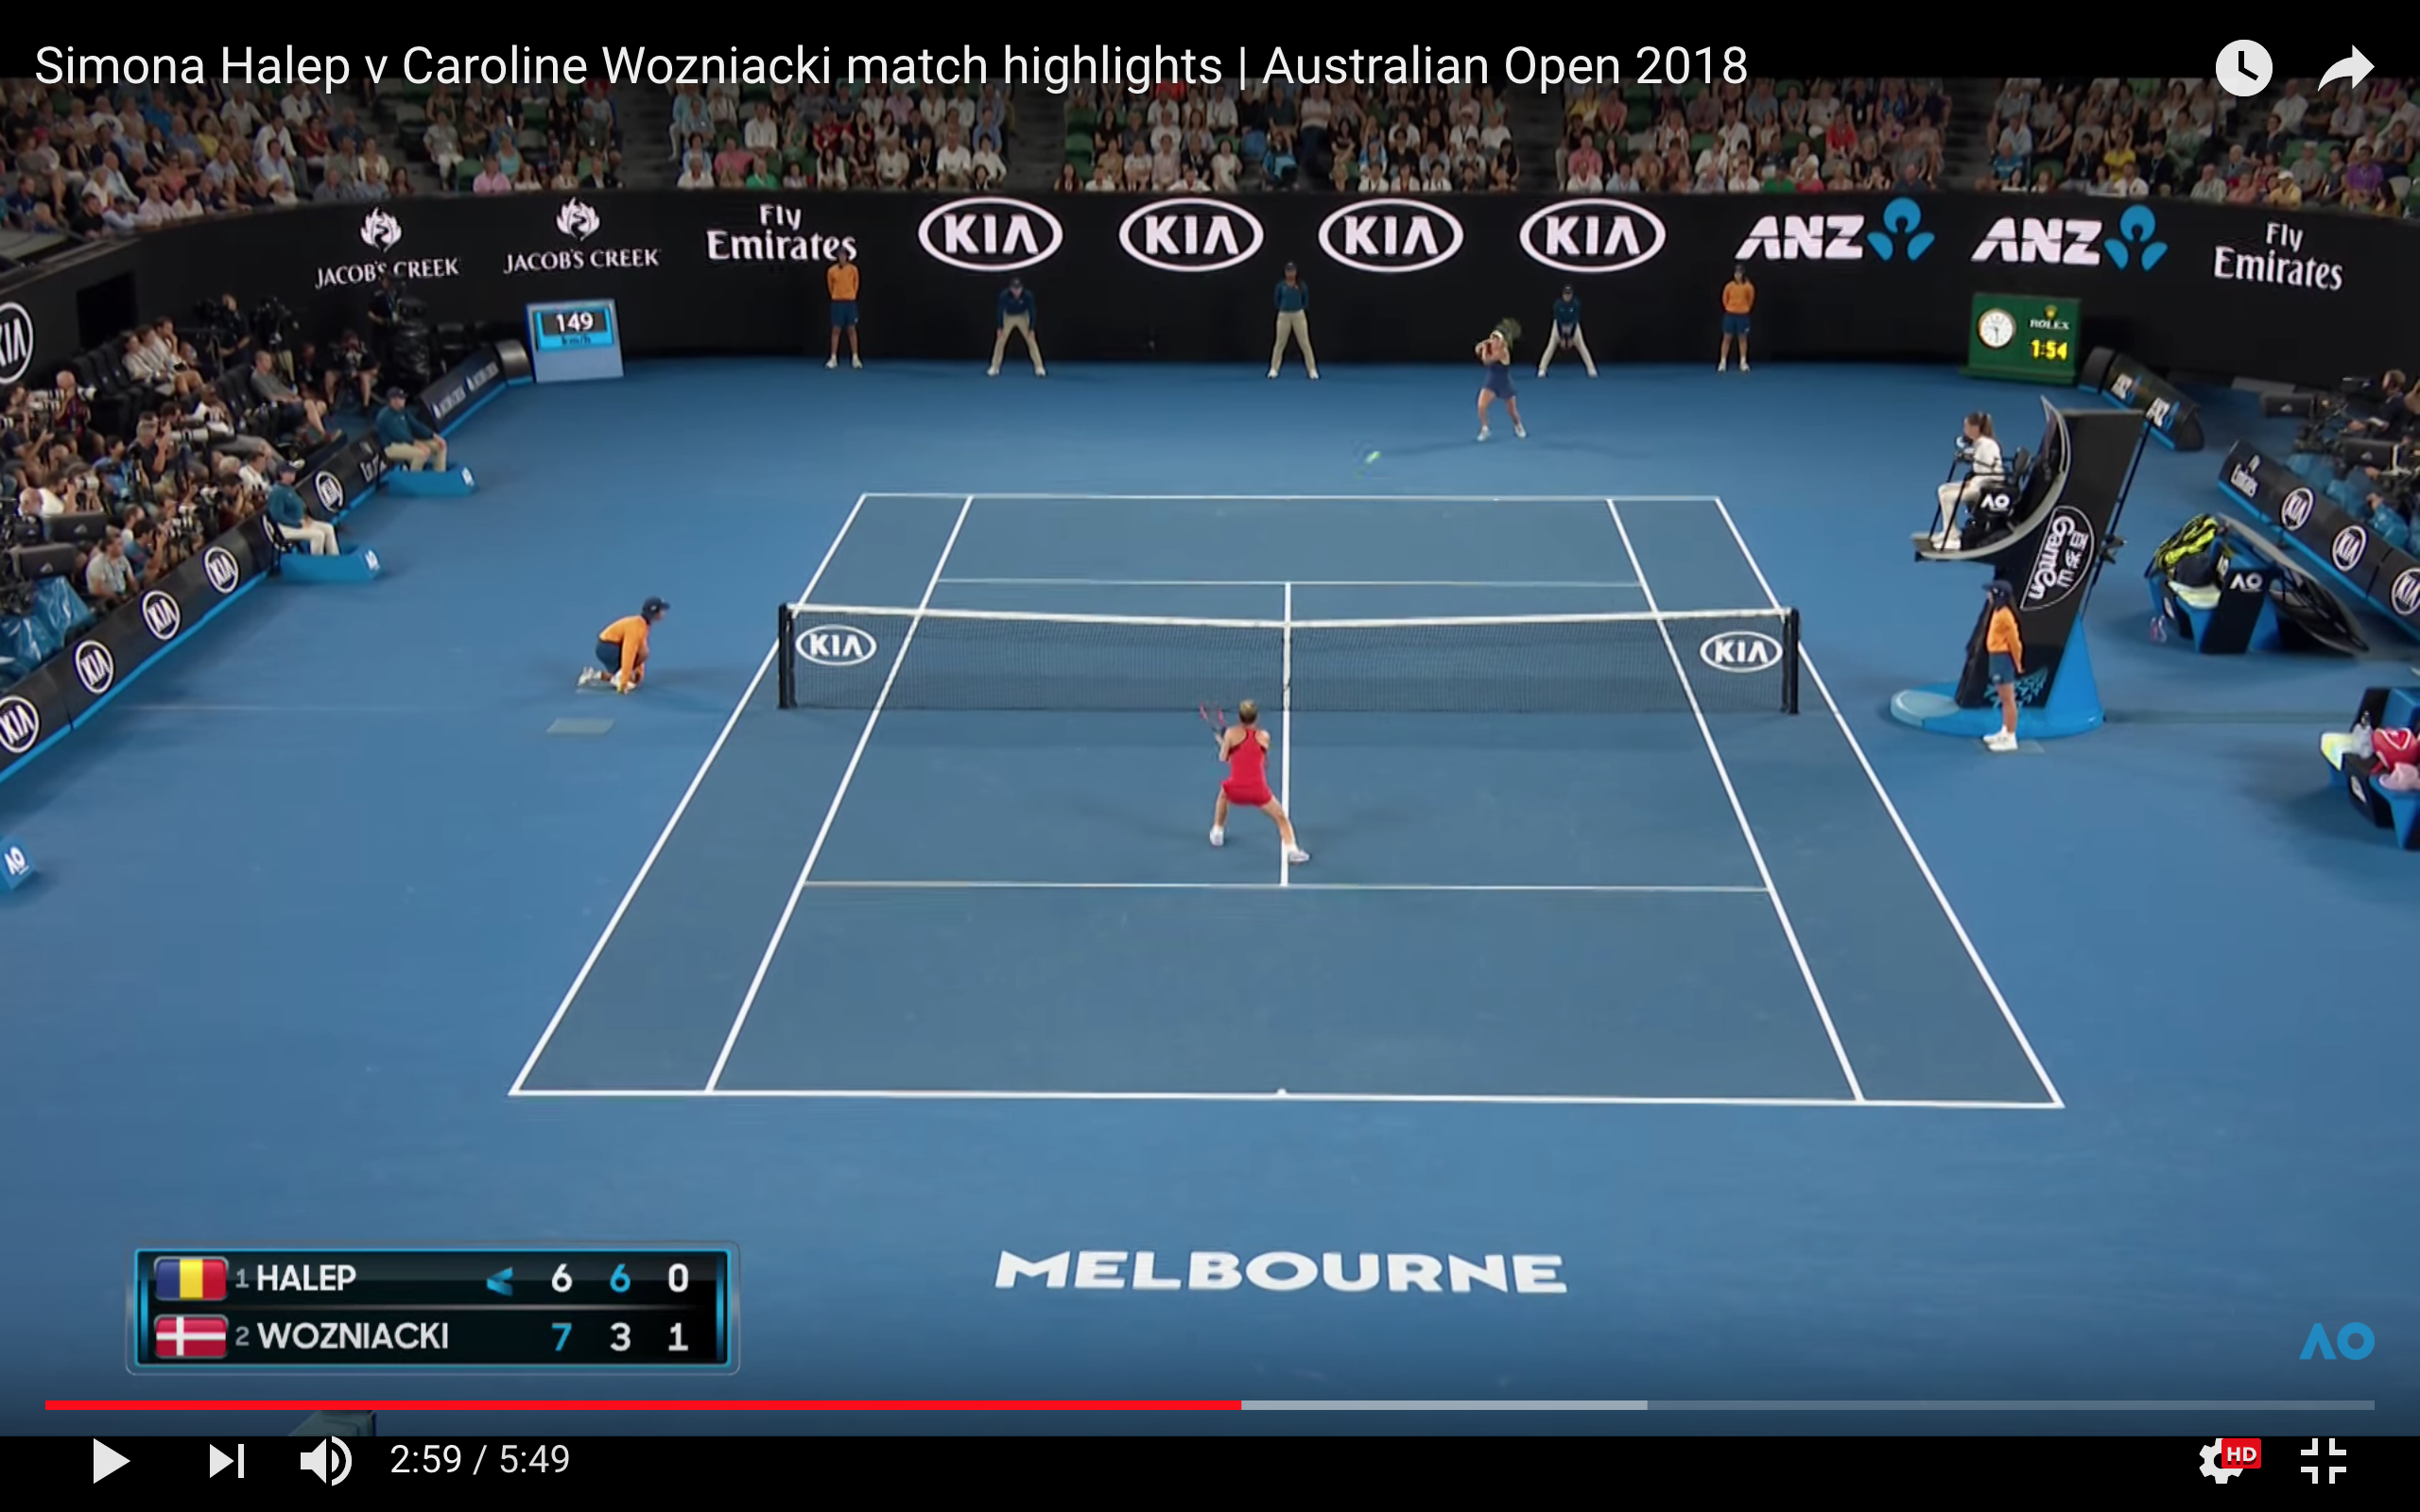tennis ball: (1355, 446, 1394, 471)
tennis player: (1196, 690, 1310, 868), (1469, 314, 1538, 446)
